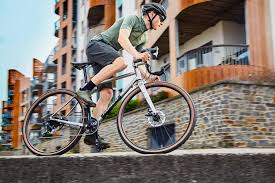Bicycle: (22, 67, 199, 152), (114, 60, 114, 70)
